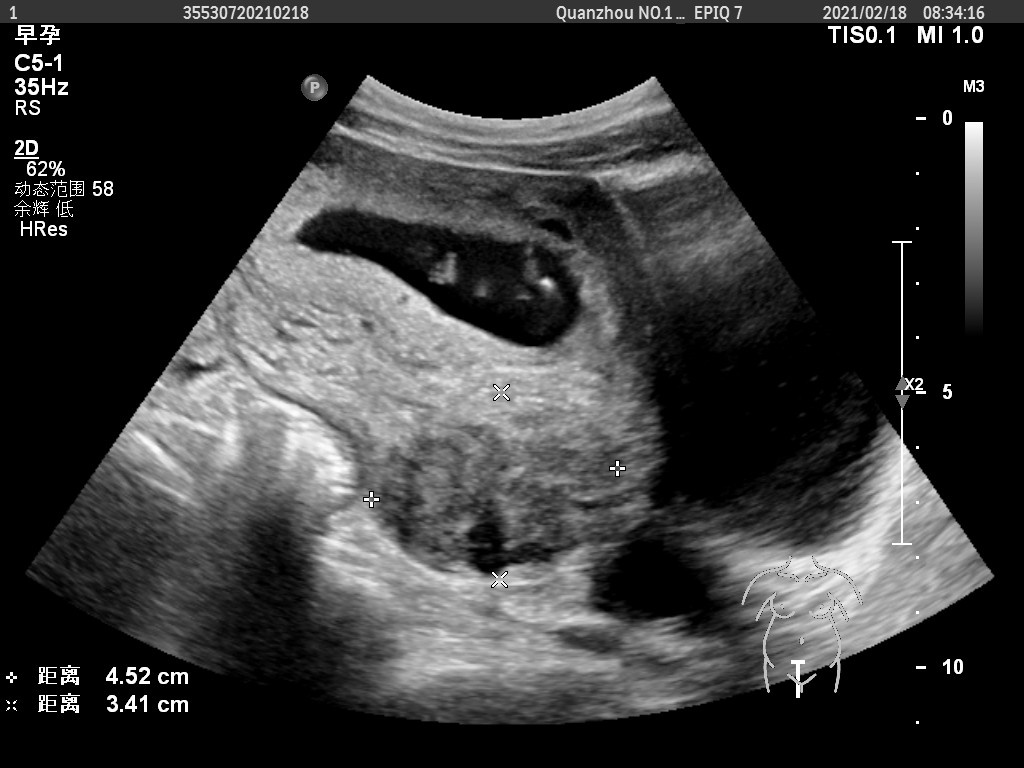肌瘤: (377, 409, 606, 561)
